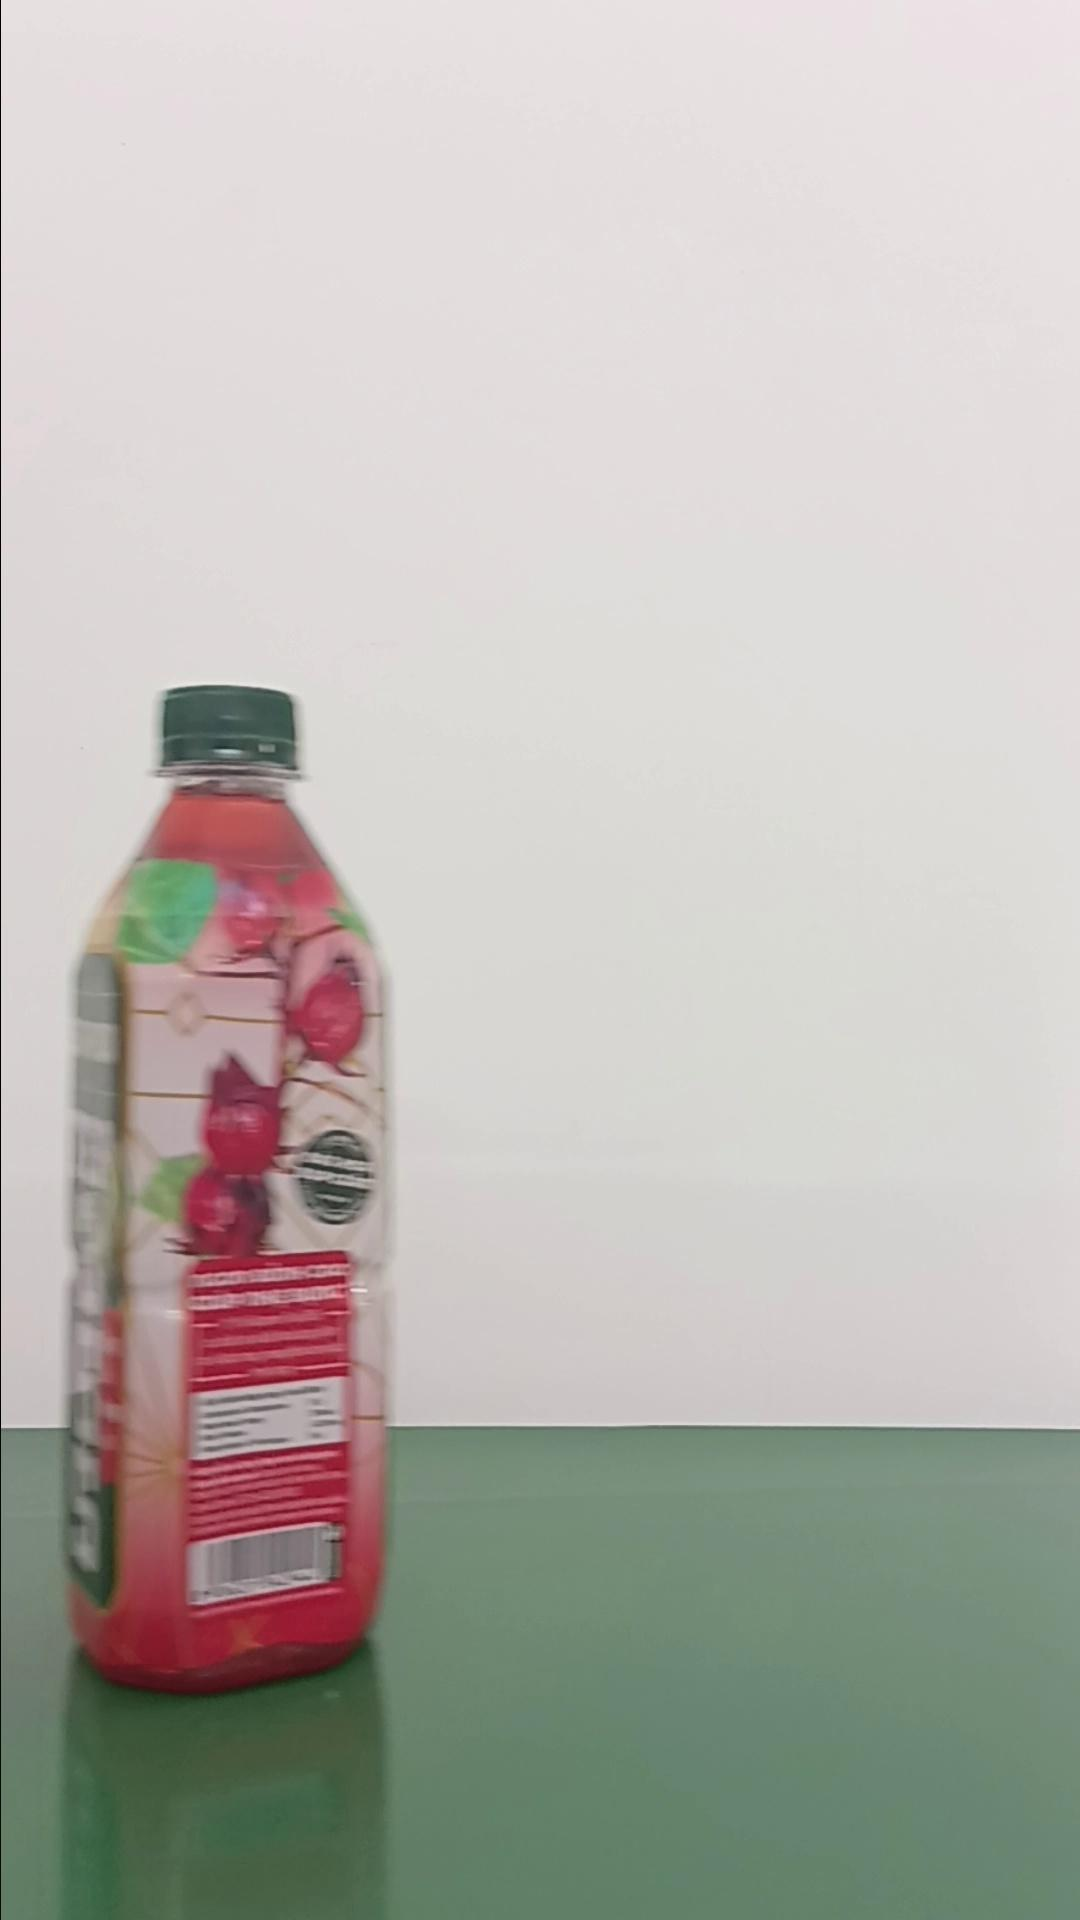khong loi: (59, 667, 397, 1695)
